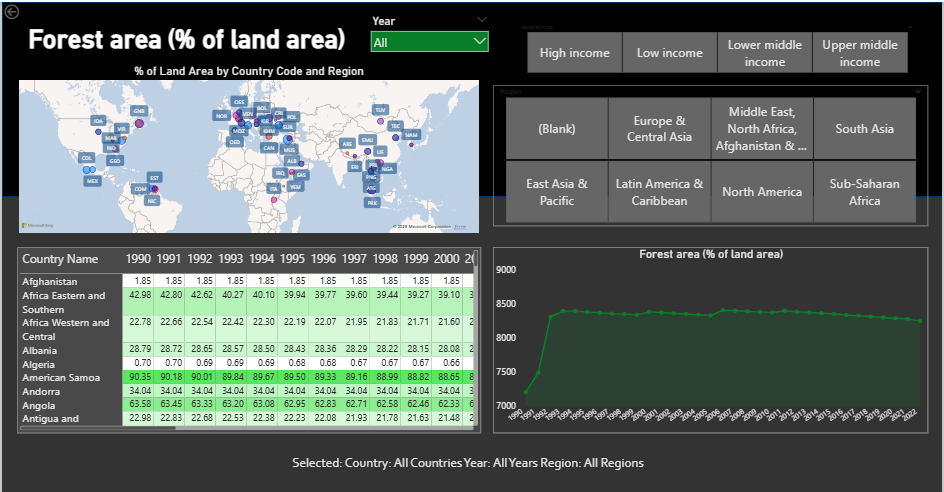

Layout of this report page (visuals, bound fields, positions):
{"tool":"powerbi","page":{"name":"Page 1","canvas":[1920,1000],"ordinal":0},"visuals":[{"type":"shape","box":[0,0,1920.4,398],"z":0},{"type":"slicer","fields":{"Values":["Metadata - Countries.Region"]},"box":[1002,169.4,887.8,287.8],"z":1000},{"type":"pivotTable","fields":{"Rows":["Data.Country Name"],"Values":["Sum(Data.Value)"],"Columns":["Data.Year"]},"box":[30.6,500,946.9,379.6],"z":2000},{"type":"map","title":"% of Land Area by Country Code and Region","fields":{"Category":["Data.Country Code"],"Series":["Metadata - Countries.Region"],"Size":["Sum(Data.Value)"]},"box":[30.6,126.5,946.9,349],"z":3000},{"type":"actionButton","box":[0,0,100,40],"z":4000},{"type":"slicer","fields":{"Values":["Data.Year"]},"box":[742.4,20.1,259.7,106.1],"z":5000},{"type":"lineChart","title":"Forest area (% of land area)","fields":{"Category":["Data.Year"],"Y":["Sum(Data.Value)"]},"box":[1002,500,887.8,379.6],"z":6000},{"type":"textbox","box":[49.4,40.2,693,106.1],"z":7000},{"type":"card","fields":{"Values":["Data.Measure"]},"box":[30.6,895.9,1840.8,85.7],"z":8000},{"type":"slicer","fields":{"Values":["Metadata - Countries.IncomeGroup"]},"box":[1046.9,40.8,824.5,110.2],"z":9000}]}

Visuals, with their boxes on the page's 1920x1000 design canvas (x1, y1, x2, y2). These are canvas units, not pixel positions in the 944x492 screenshot, which may show the page scaled, cropped or inside an application window:
shape: box(0, 0, 1920, 398)
slicer - Metadata - Countries.Region: box(1002, 169, 1890, 457)
pivotTable - Data.Country Name x Sum(Data.Value): box(31, 500, 978, 880)
"% of Land Area by Country Code and Region" map: box(31, 126, 978, 476)
actionButton: box(0, 0, 100, 40)
slicer - Data.Year: box(742, 20, 1002, 126)
"Forest area (% of land area)" lineChart: box(1002, 500, 1890, 880)
textbox: box(49, 40, 742, 146)
card - Data.Measure: box(31, 896, 1871, 982)
slicer - Metadata - Countries.IncomeGroup: box(1047, 41, 1871, 151)
